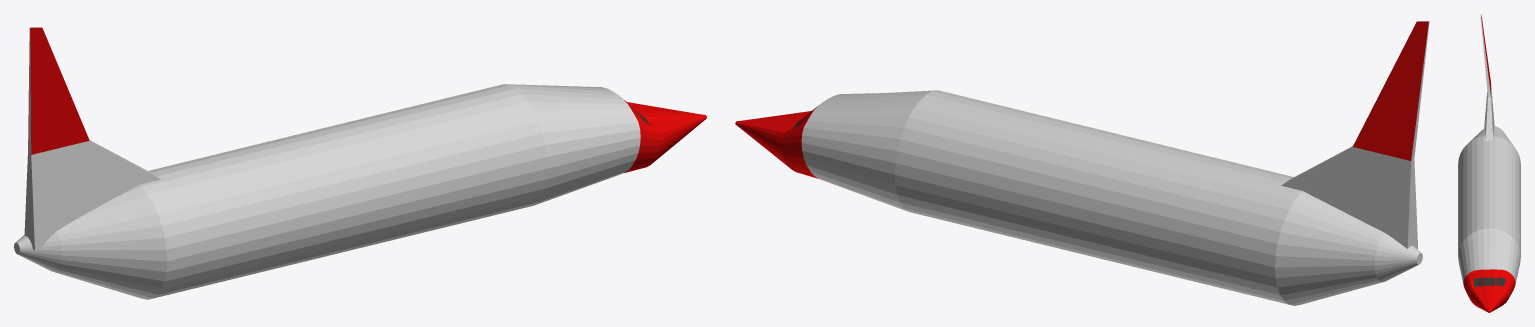
File: plane_body.fbx
The picture shows the model from 3 angles, left to right: view 1: azimuth 30°, elevation 25°; view 2: azimuth 150°, elevation 25°; view 3: azimuth 270°, elevation 25°; orthographic projection. The views are drawn at different scales.
Parts seen in each view (by area): view 1: Plane_Body; view 2: Plane_Body; view 3: Plane_Body.
Part boxes in pixels (x1,y1,x2,y2): Plane_Body: (14,27,706,299); Plane_Body: (735,21,1429,305); Plane_Body: (1458,14,1520,312).
Size of the model in its own units: 32.47 by 13.65 by 5.15.
